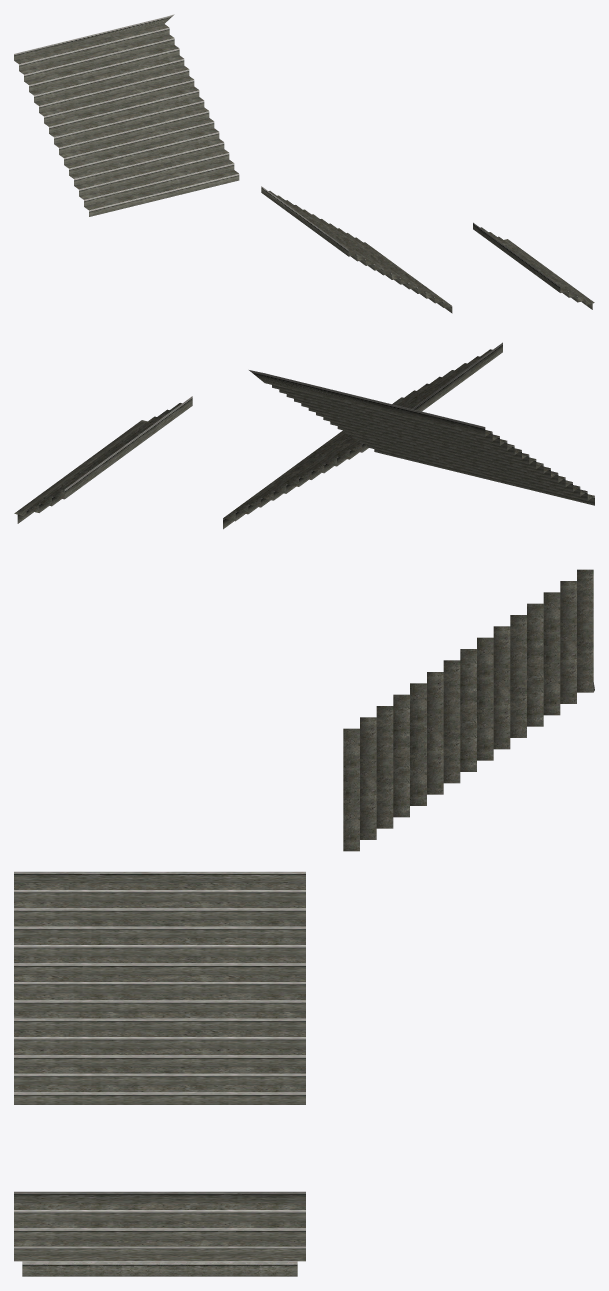
Rendered from DWARF_PALACE_EREBORROOM_STAIRS02.fbx.
3 views of the same model, one above another, from view 1: azimuth 30°, elevation 25°; view 2: azimuth 150°, elevation 25°; view 3: azimuth 270°, elevation 25° (orthographic). The views are drawn at different scales.
Parts seen in each view (by area): view 1: DWARF_PALACE_EREBORROOM_STAIRS02; view 2: DWARF_PALACE_EREBORROOM_STAIRS02; view 3: DWARF_PALACE_EREBORROOM_STAIRS02.
Boxes of the visible parts, x1,y1,x2,y2 form: DWARF_PALACE_EREBORROOM_STAIRS02: [14, 14, 594, 313]; DWARF_PALACE_EREBORROOM_STAIRS02: [14, 342, 594, 529]; DWARF_PALACE_EREBORROOM_STAIRS02: [14, 569, 594, 1276].
Size of the model in its own units: 188679 by 101999 by 139305.
Materials: 2 (2 with a texture image).
